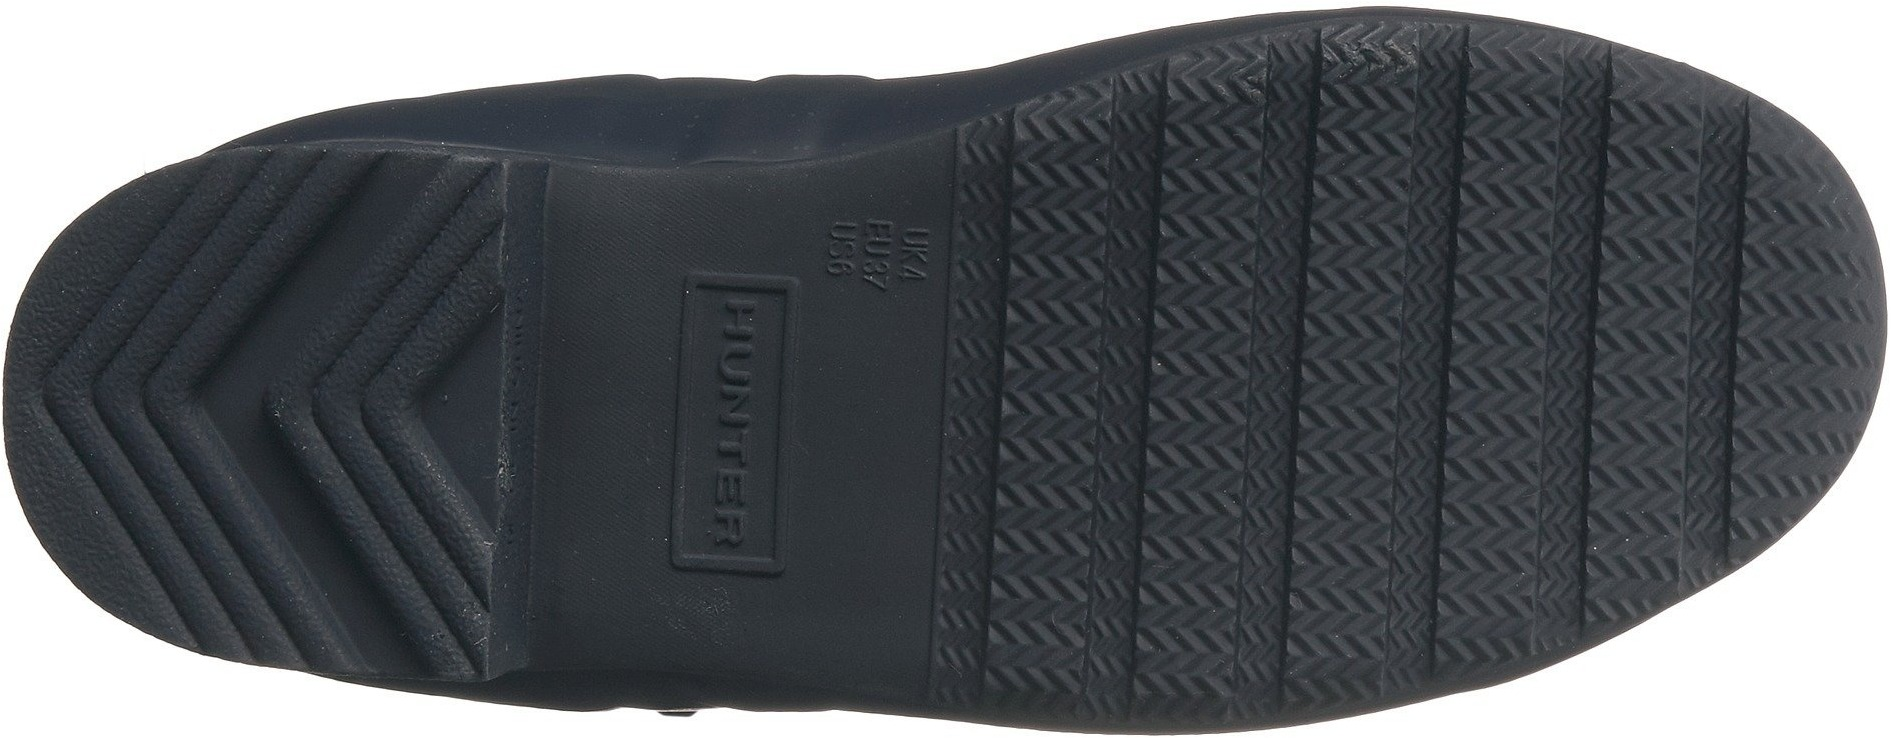chevron: (1261, 49, 1674, 445), (135, 364, 467, 654), (952, 106, 1248, 428), (958, 439, 1226, 701), (1239, 465, 1479, 691), (1679, 212, 1870, 418), (1483, 453, 1653, 610), (14, 330, 131, 449)
other: (779, 581, 921, 707)
text: (815, 186, 947, 322), (683, 299, 795, 404), (685, 408, 791, 506), (698, 519, 753, 568)
